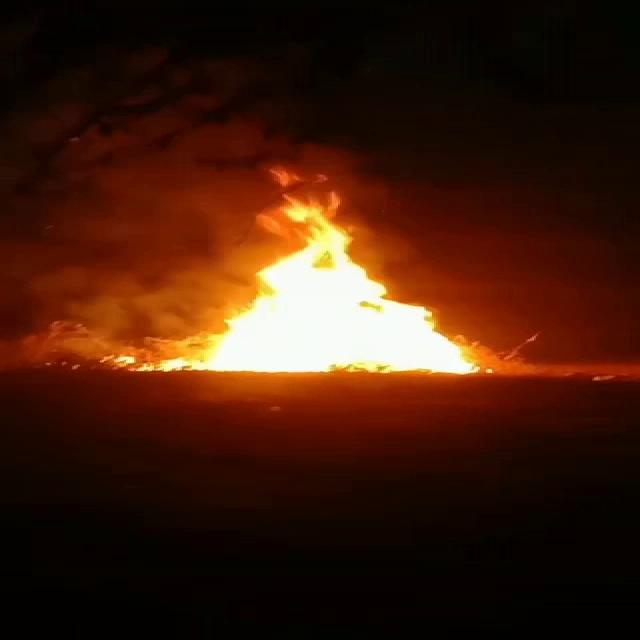Fire: (164, 194, 480, 375)
